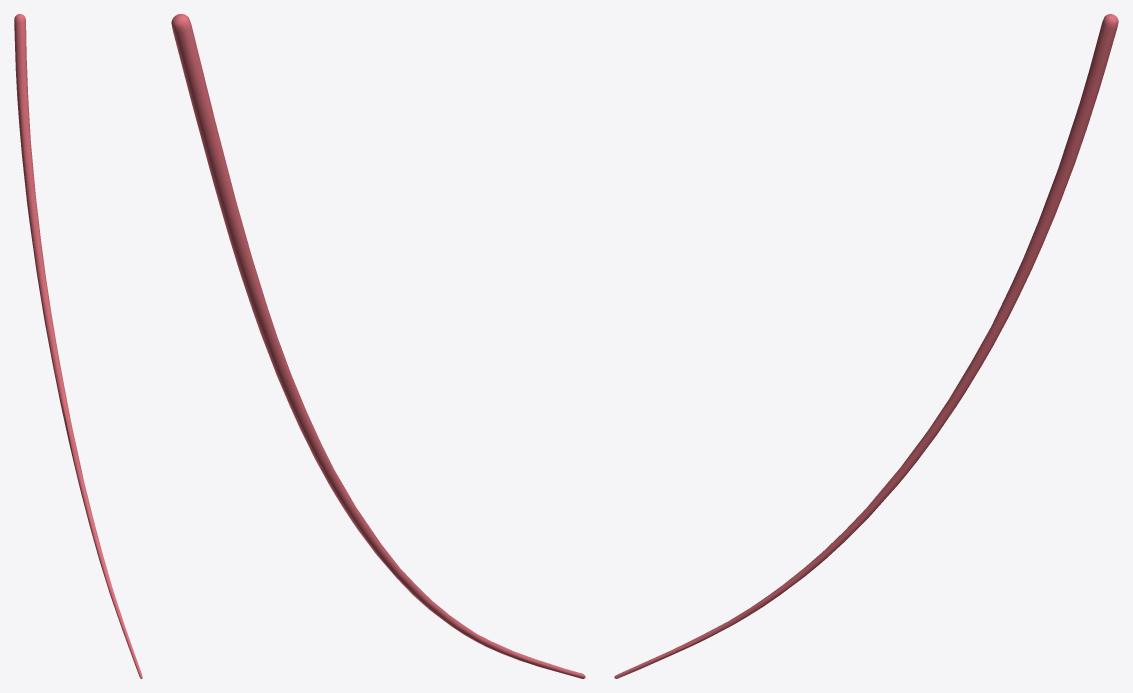
Rendered from fma23052_fj2369.glb.
The picture shows the model from 3 angles, left to right: view 1: azimuth 30°, elevation 25°; view 2: azimuth 150°, elevation 25°; view 3: azimuth 270°, elevation 25°; orthographic projection. The views are drawn at different scales.
Parts seen in each view (by area): view 1: FMA23052_FJ2369; view 2: FMA23052_FJ2369; view 3: FMA23052_FJ2369.
Boxes of the visible parts, <box> form: FMA23052_FJ2369: <box>14,14,142,678</box>; FMA23052_FJ2369: <box>171,14,585,678</box>; FMA23052_FJ2369: <box>614,14,1118,678</box>.
Size of the model in its own units: 0.00947 by 0.0706 by 0.0458.
